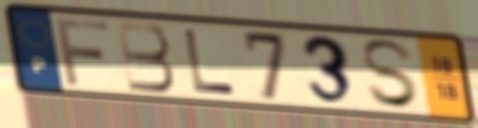3: (299, 32, 361, 108)
7: (239, 27, 292, 102)
B: (114, 19, 179, 95)
F: (52, 16, 113, 88)
L: (181, 26, 238, 97)
S: (358, 38, 423, 112)
